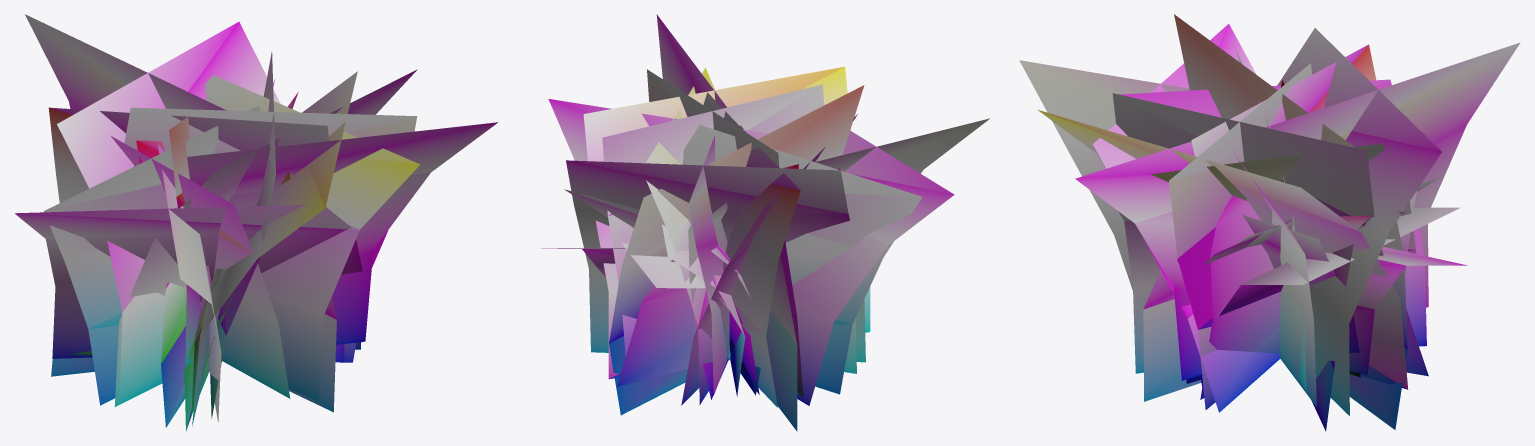
Rendered from elderbush_01_a.dae.
3 views of the same model, side by side, from view 1: azimuth 30°, elevation 25°; view 2: azimuth 150°, elevation 25°; view 3: azimuth 270°, elevation 25° (orthographic). The views are drawn at different scales.
Visible parts, largest first — view 1: elderbush128; view 2: elderbush128; view 3: elderbush128.
Boxes of the visible parts, <box> form: elderbush128: <box>15,14,497,431</box>; elderbush128: <box>541,14,989,431</box>; elderbush128: <box>1019,14,1520,431</box>.
Size of what is drawn, in the model's own units: 7.04 by 7.01 by 5.17.
